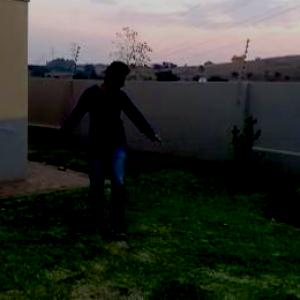land: (35, 53, 184, 253)
